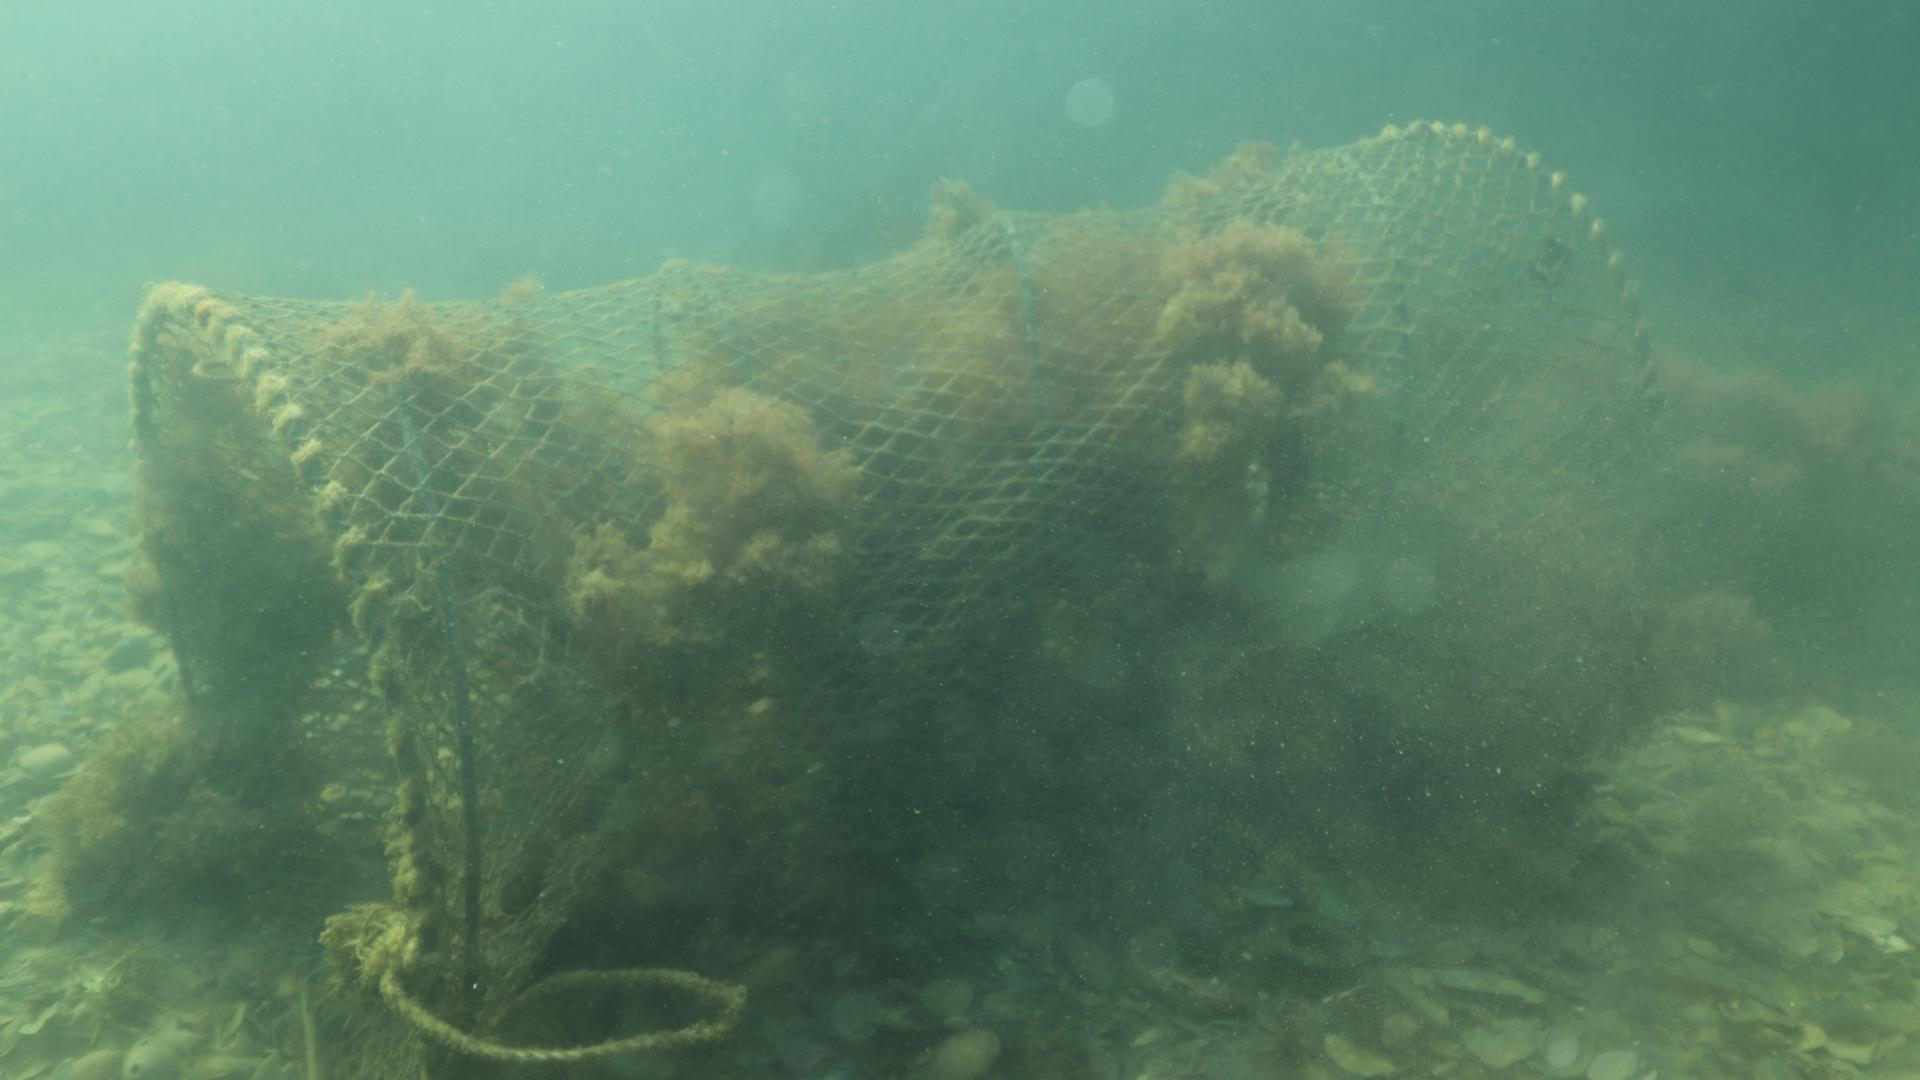rope: (235, 878, 795, 1080)
spring fish trap: (125, 117, 1669, 1080)
